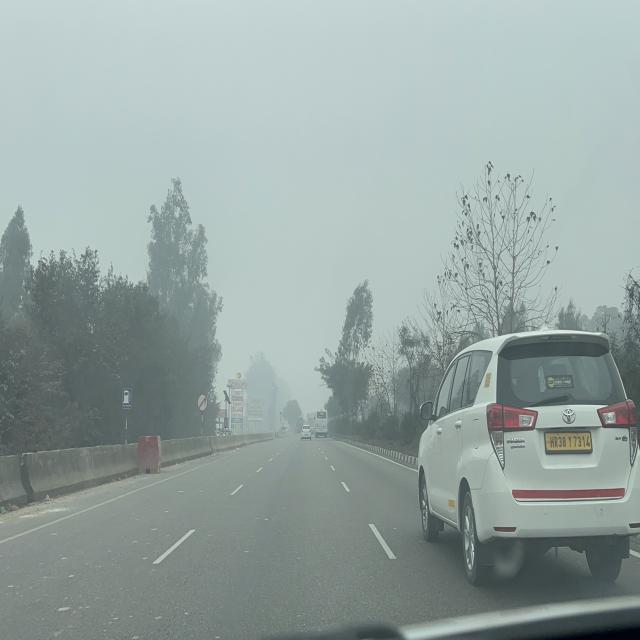INFORMATION: (122, 388, 132, 410)
